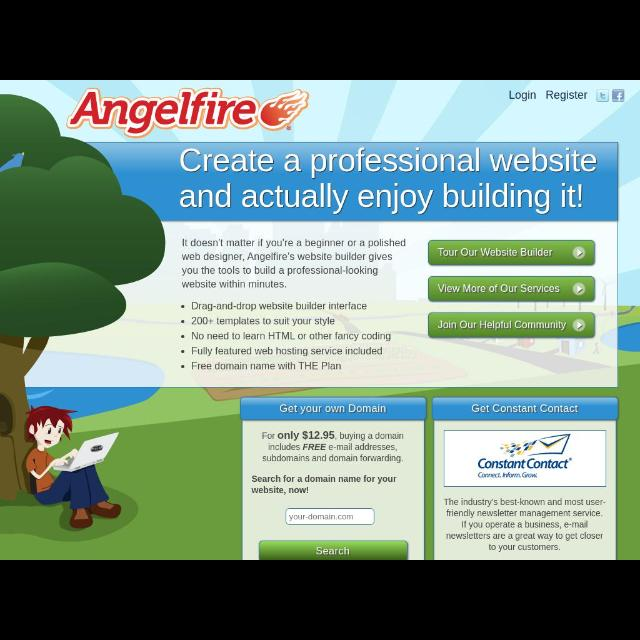backgroundimage: (1, 81, 638, 559)
icon: (597, 90, 607, 102), (614, 90, 624, 102)
image: (66, 87, 312, 137), (446, 430, 606, 488)
input: (286, 506, 376, 526)
panel: (0, 142, 618, 386)
text: (176, 148, 598, 216), (180, 301, 394, 373), (180, 238, 408, 292), (442, 496, 608, 558), (260, 432, 408, 464), (252, 475, 401, 499), (470, 403, 580, 417), (280, 404, 388, 414), (288, 513, 354, 521), (546, 90, 588, 100), (508, 90, 538, 100)
textbutton: (428, 276, 596, 302), (427, 312, 595, 336), (429, 240, 595, 264), (260, 542, 408, 558)
